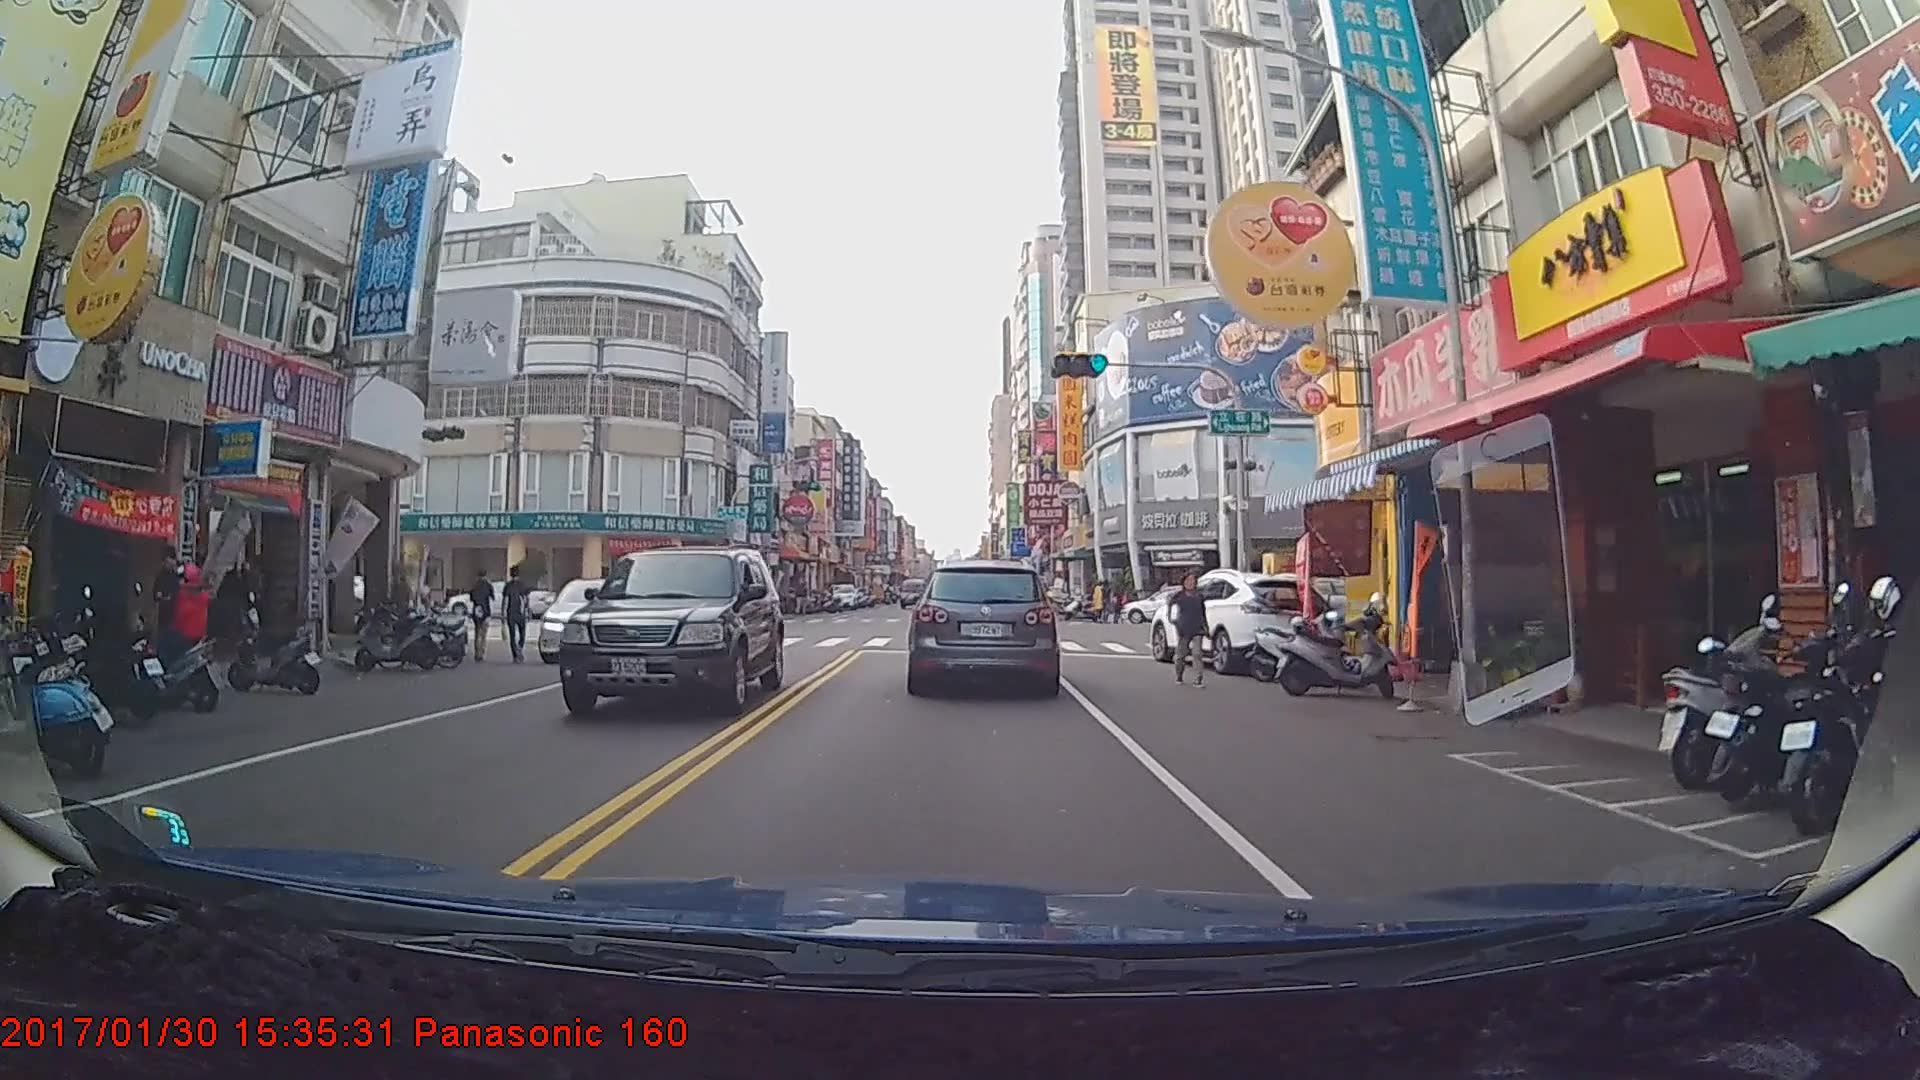pedestrian: (145, 543, 196, 679), (1170, 571, 1210, 686), (496, 563, 536, 659), (470, 570, 495, 667)
rider: (111, 560, 225, 714)
vehicle: (558, 545, 785, 716), (907, 558, 1058, 694), (1147, 570, 1342, 672), (537, 576, 657, 665), (1117, 584, 1229, 624), (825, 579, 859, 609), (898, 576, 928, 607)
